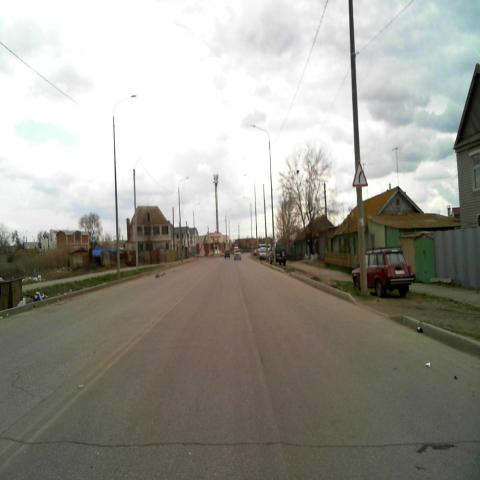1_11: (352, 161, 368, 188)
